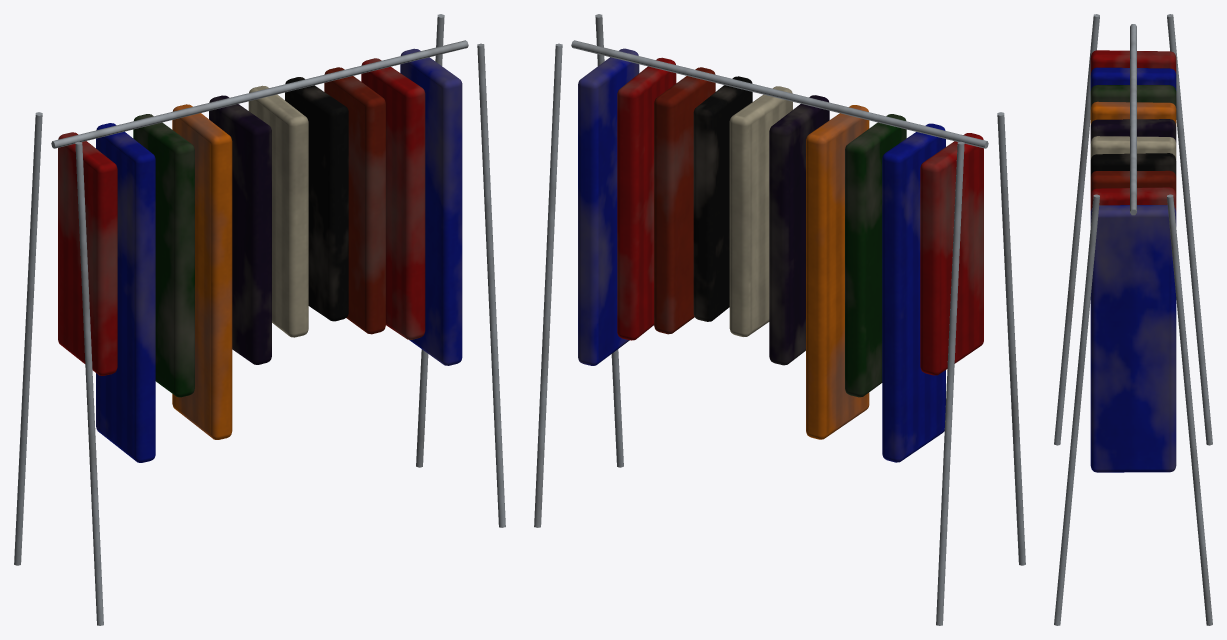
The model's file is sklep_wieszak.glb.
3 renders of one model, left to right at view 1: azimuth 30°, elevation 25°; view 2: azimuth 150°, elevation 25°; view 3: azimuth 270°, elevation 25°, orthographic. The views are drawn at different scales.
Parts seen in each view (by area): view 1: Wieszak; view 2: Wieszak; view 3: Wieszak.
Boxes of the visible parts, left/top/right/bottom form: Wieszak: left=14, top=14, right=505, bottom=625; Wieszak: left=534, top=14, right=1025, bottom=625; Wieszak: left=1054, top=14, right=1212, bottom=625.
Size of the model in its own units: 1.44 by 1.55 by 0.5207.
Materials: 1 (1 with a texture image).
